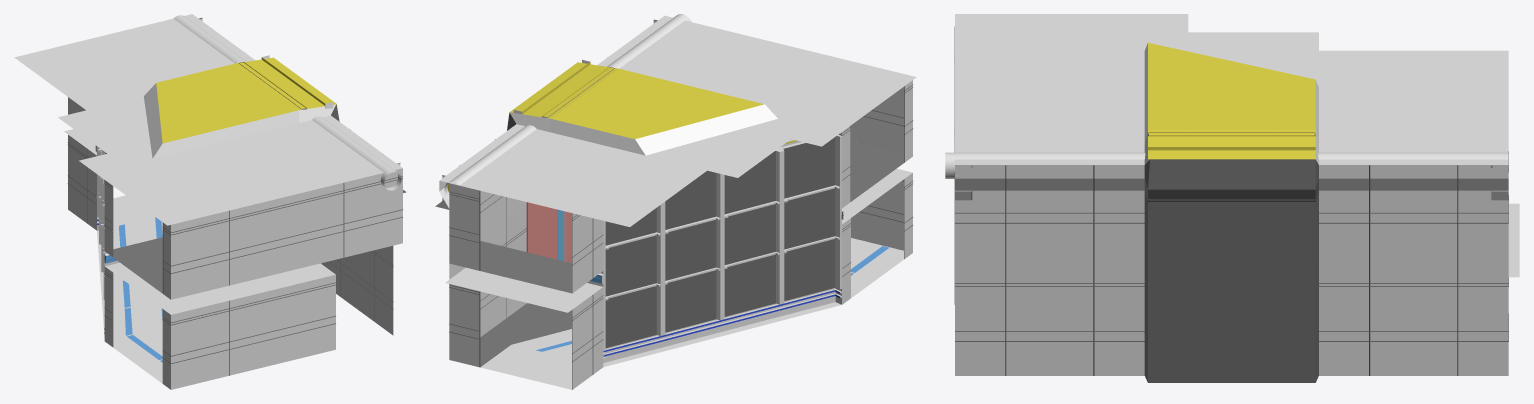
The model's file is Corner.fbx.
The picture shows the model from 3 angles, left to right: view 1: azimuth 30°, elevation 25°; view 2: azimuth 150°, elevation 25°; view 3: azimuth 270°, elevation 25°; orthographic projection. The views are drawn at different scales.
Parts seen in each view (by area): view 1: Corner_Ceiling, Corner_Walls, Corner_Floor, Corner_Experiment, Corner_Bunker, Corner_ExperimentCase; view 2: Corner_Ceiling, Corner_Bunker, Corner_Walls, Corner_Floor, Corner_Experiment, Corner_ExperimentCase; view 3: Corner_Walls, Corner_Ceiling, Corner_Experiment, Corner_ExperimentCase.
Part boxes in pixels (<box>): Corner_Ceiling: <box>14,14,402,314</box>; Corner_Walls: <box>67,97,402,389</box>; Corner_Floor: <box>97,195,162,383</box>; Corner_Experiment: <box>173,15,401,190</box>; Corner_Bunker: <box>97,146,106,333</box>; Corner_ExperimentCase: <box>199,17,406,192</box>; Corner_Ceiling: <box>439,15,916,312</box>; Corner_Bunker: <box>603,132,841,362</box>; Corner_Walls: <box>439,80,913,389</box>; Corner_Floor: <box>480,141,903,389</box>; Corner_Experiment: <box>444,14,691,198</box>; Corner_ExperimentCase: <box>435,19,657,209</box>; Corner_Walls: <box>954,26,1508,382</box>; Corner_Ceiling: <box>955,14,1519,277</box>; Corner_Experiment: <box>945,152,1508,178</box>; Corner_ExperimentCase: <box>955,132,1508,200</box>.
Bounding box in the file's own units: 17.5 × 11.83 × 26.38.
